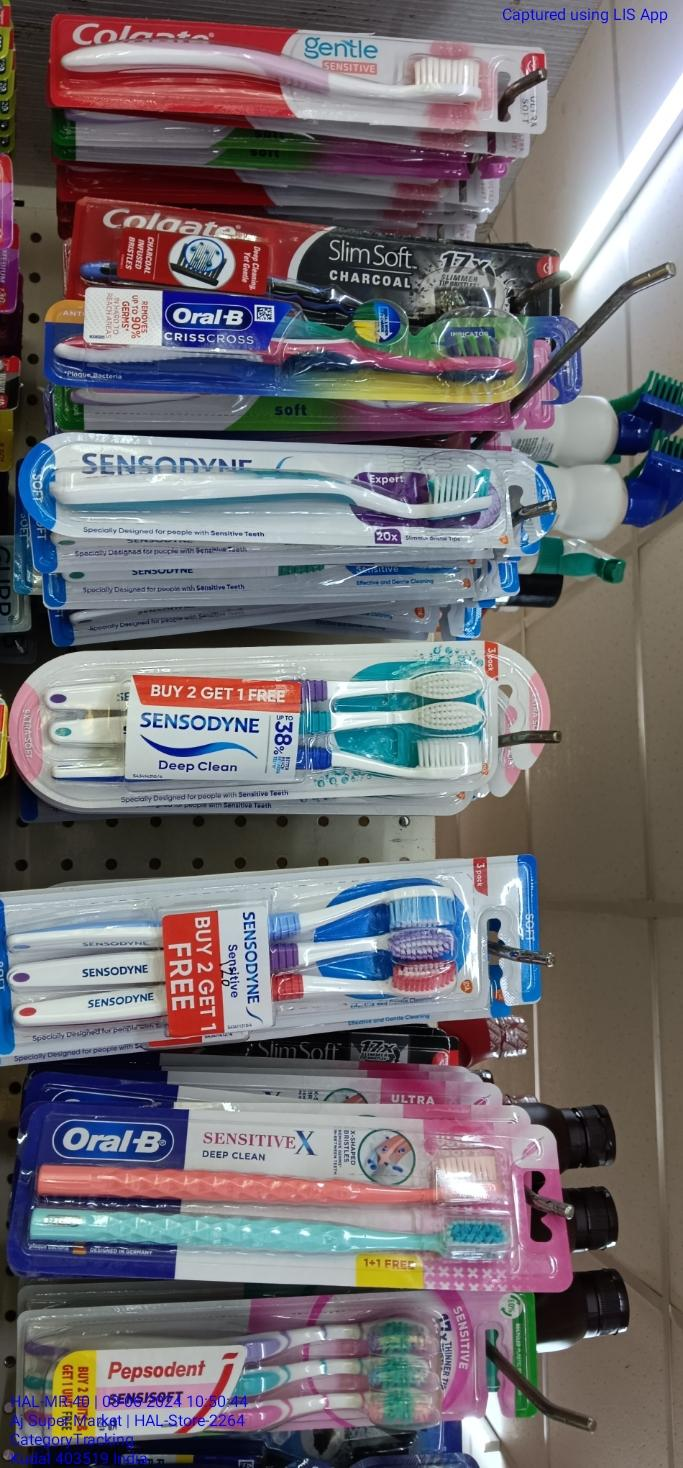12: (601, 312, 672, 1433)
15: (403, 312, 493, 1468)
5: (519, 263, 599, 1442), (297, 282, 375, 1441)
9: (142, 220, 180, 1364)
soap: (91, 269, 135, 1328)
